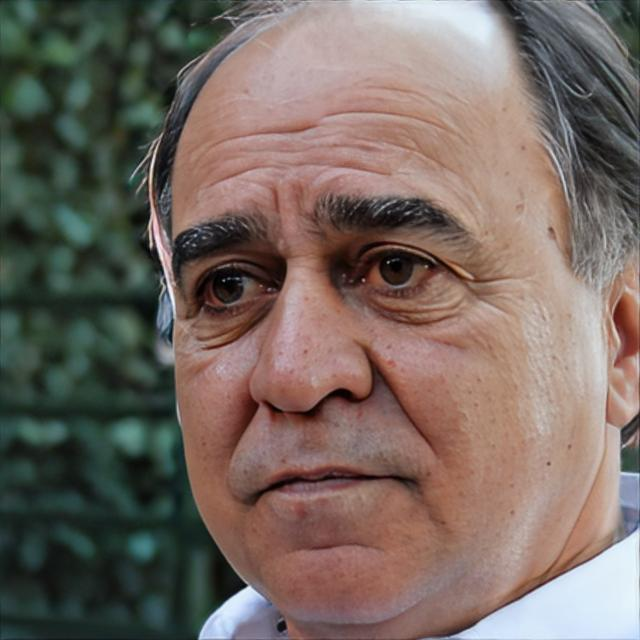sad: (167, 4, 578, 636)
